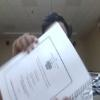notebook: (0, 20, 94, 99)
